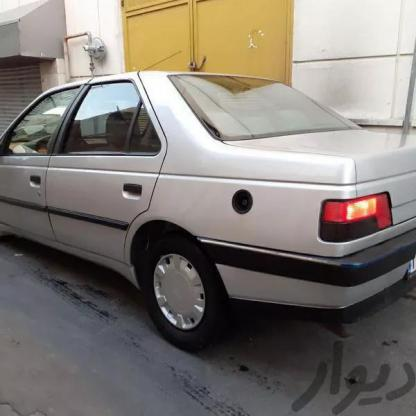Car: (0, 43, 416, 345)
